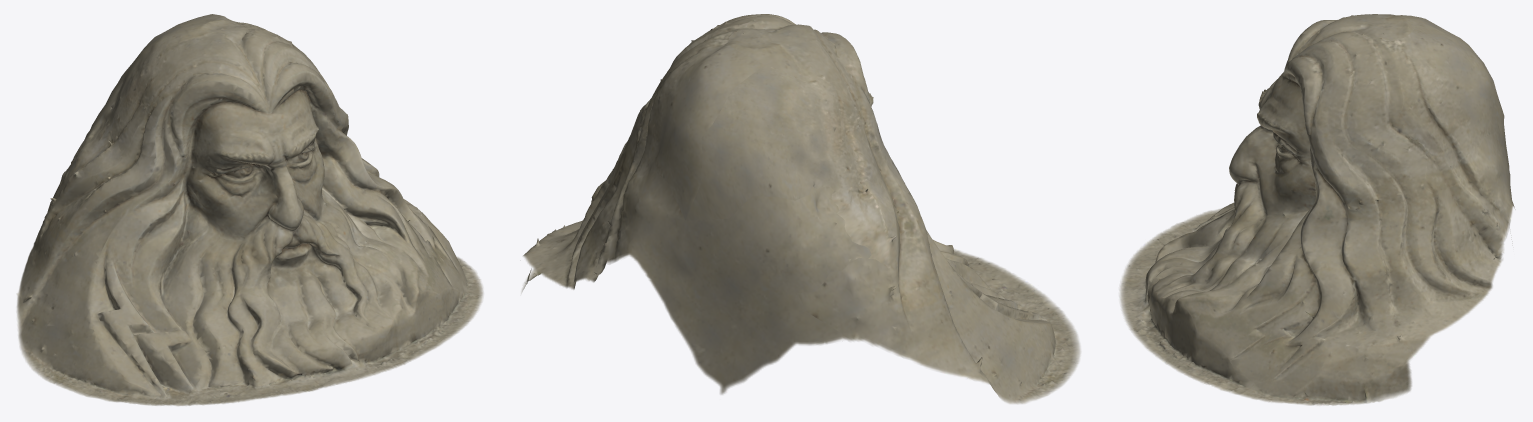
Rendered from sf_god_zeus.glb.
3 views of the same model, side by side, from view 1: azimuth 30°, elevation 25°; view 2: azimuth 150°, elevation 25°; view 3: azimuth 270°, elevation 25° (orthographic). The views are drawn at different scales.
Visible parts, largest first — view 1: zeus; view 2: zeus; view 3: zeus.
Boxes of the visible parts, <box> form: zeus: <box>16,14,483,406</box>; zeus: <box>521,14,1080,403</box>; zeus: <box>1119,14,1515,405</box>.
Bounding box in the file's own units: 4.87 × 2.88 × 3.73.
Materials: 1 (1 with a texture image).
